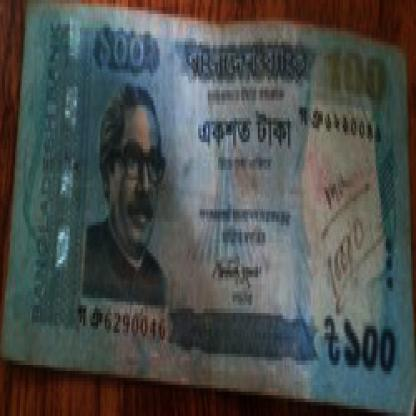one hundred taka: (323, 35, 394, 104), (341, 312, 401, 381), (89, 24, 156, 80)
